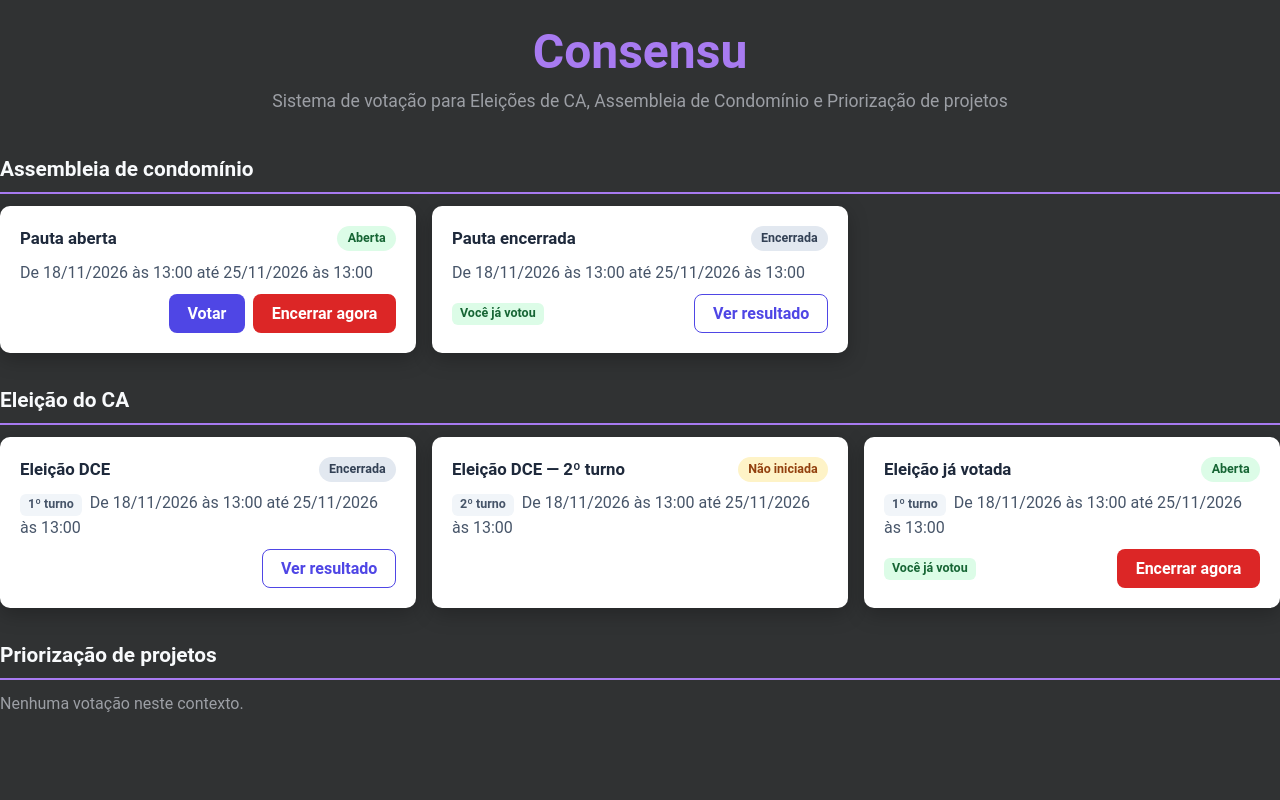
Test: Home (painel) › admin encerra uma votação aberta depois de confirmar
Check: the element "Eleição do CA" is shown, box top-left (0, 385), bottom-right (1279, 608)
Click the button "Encerrar agora" next to "Votar". click: (324, 314)
box: top-left (253, 294), bottom-right (396, 333)
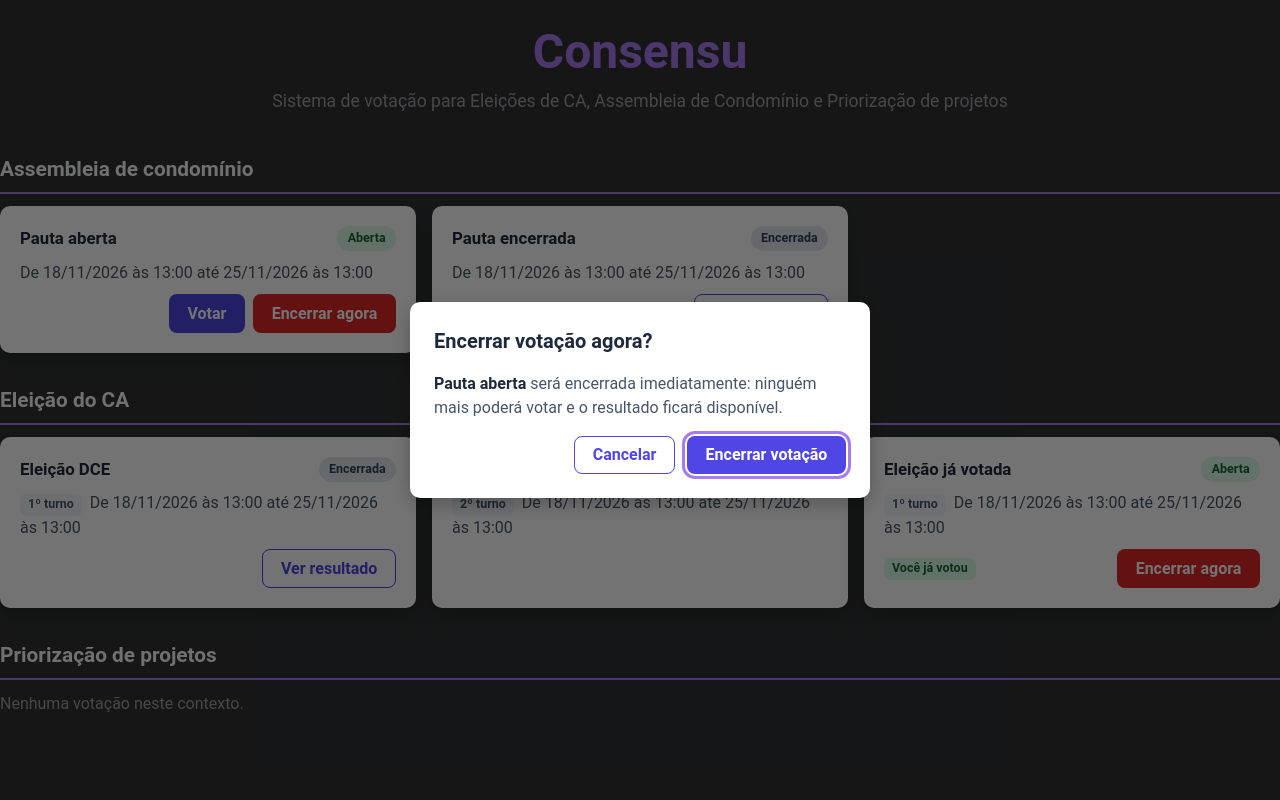
Check: the dialog "Encerrar votação agora?" shows "Pauta aberta", box top-left (434, 374), bottom-right (526, 393)
Click the button "Encerrar votação". click: (766, 455)
box: top-left (687, 436), bottom-right (846, 474)
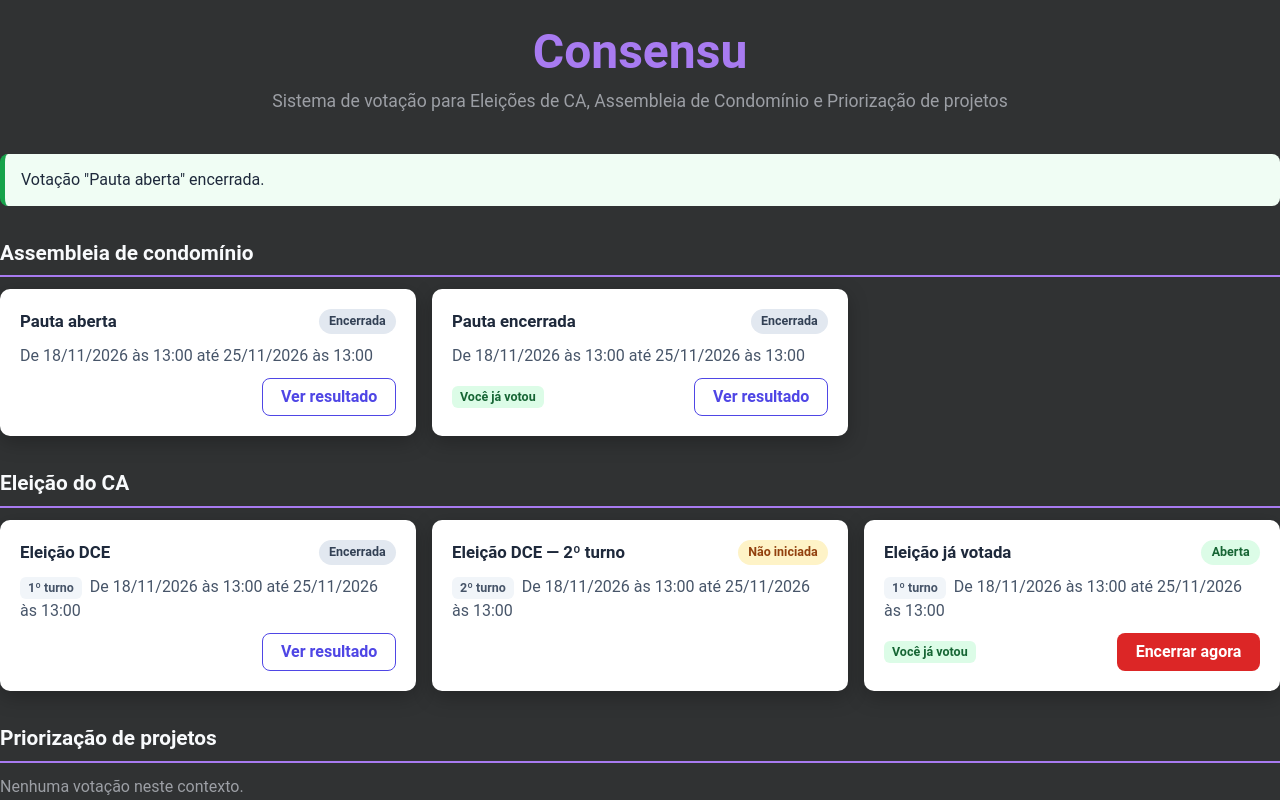
Check: the message reads "Votação \"Pauta aberta\" encerrada.", box top-left (21, 170), bottom-right (264, 189)
Check: the 1st text "Encerrada" is shown, box top-left (319, 309), bottom-right (396, 334)
Check: the 1st link "Ver resultado" is shown, box top-left (262, 378), bottom-right (396, 416)
